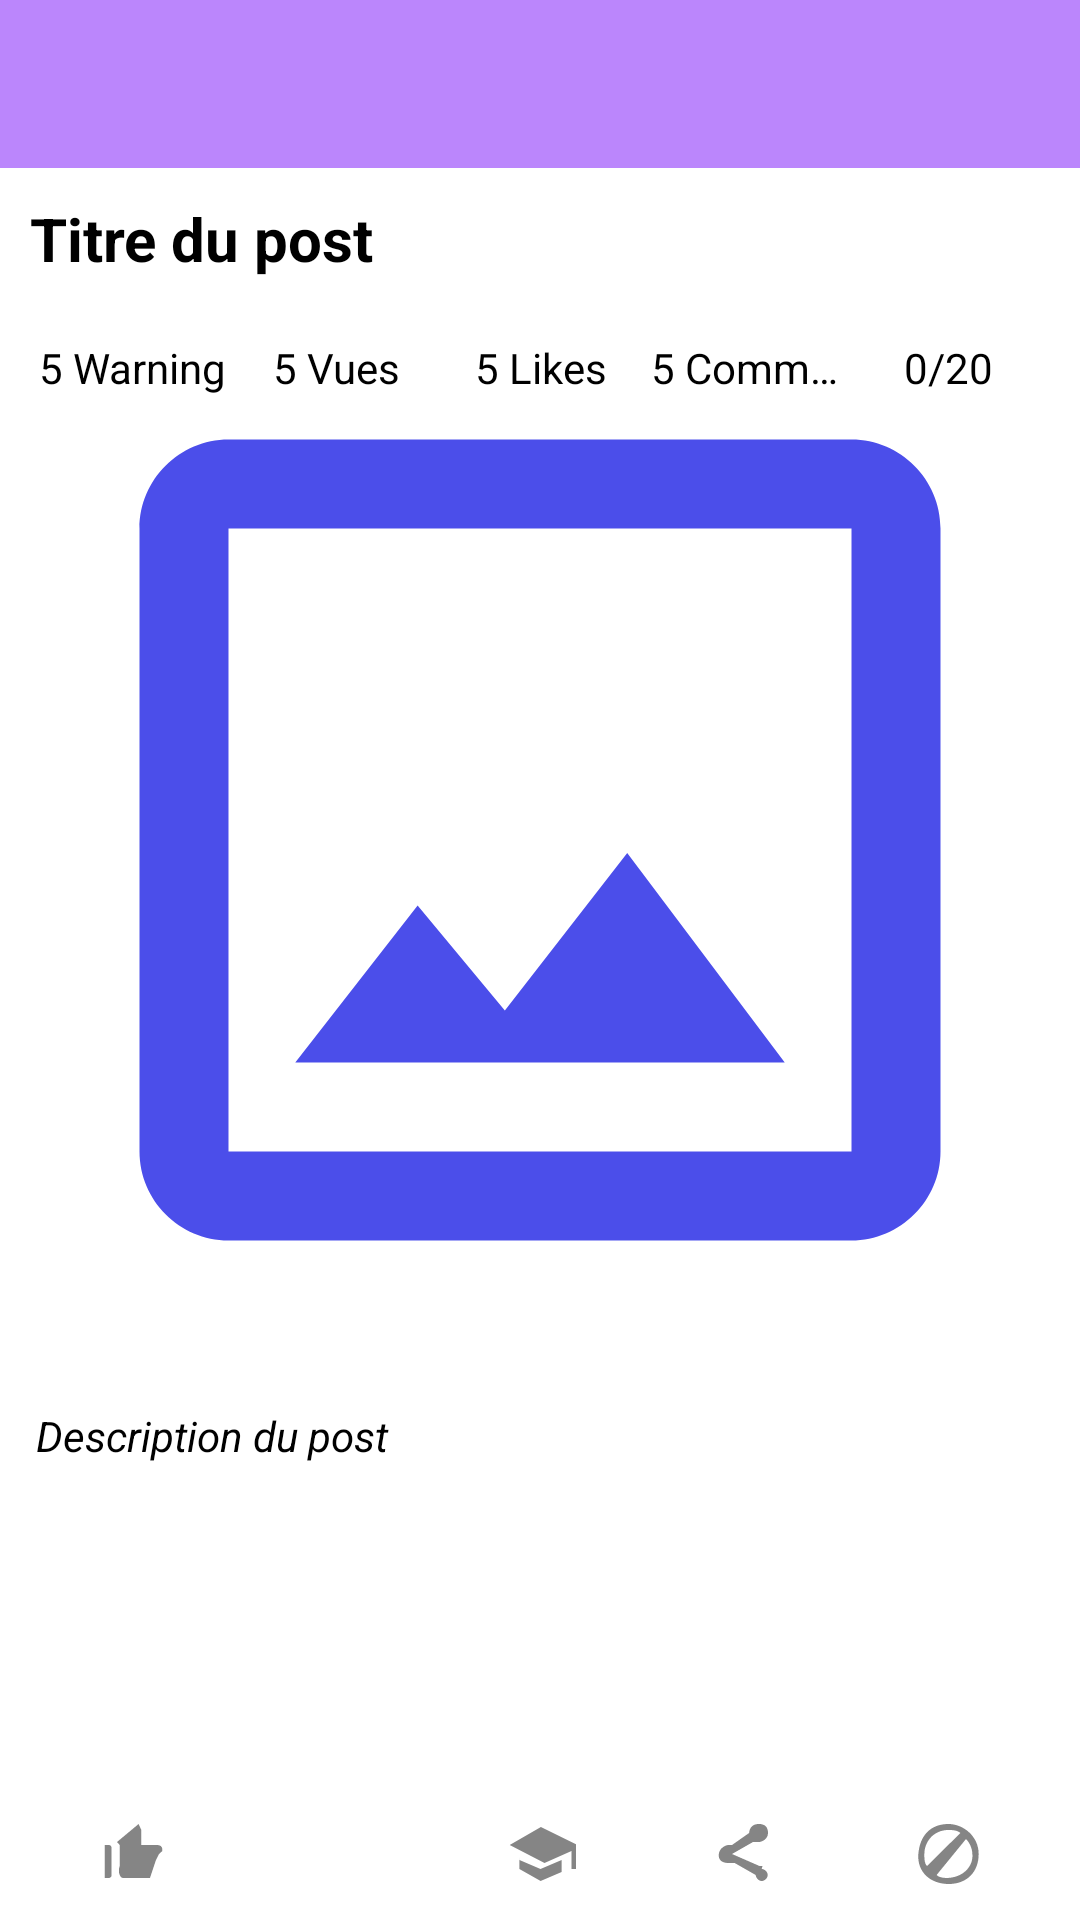

Locate icon controls on the screen. Image size 1080 × 1920, boxes as (x1, y1, x2, y2).
no like: (104, 1824, 163, 1878)
no note: (510, 1827, 576, 1881)
no share: (718, 1824, 768, 1881)
no signaler: (918, 1824, 979, 1884)
